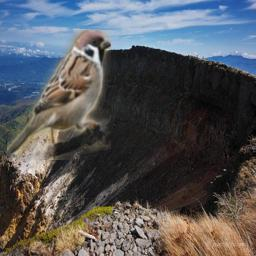Sparrow: (7, 30, 111, 160)
